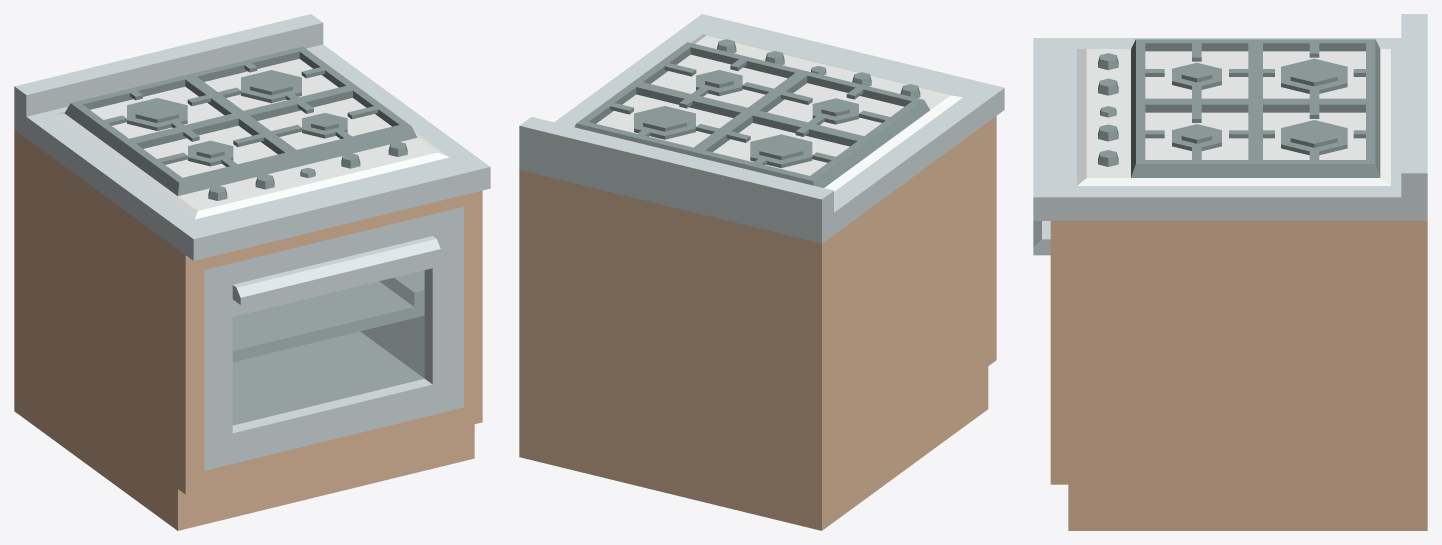
File: kitchenStove.glb
3 renders of one model, left to right at view 1: azimuth 30°, elevation 25°; view 2: azimuth 150°, elevation 25°; view 3: azimuth 270°, elevation 25°, orthographic. The views are drawn at different scales.
Parts seen in each view (by area): view 1: kitchenStove(Clone), door; view 2: kitchenStove(Clone); view 3: kitchenStove(Clone), door.
Boxes of the visible parts, left/top/right/bottom form: kitchenStove(Clone): left=14, top=14, right=490, bottom=530; door: left=204, top=206, right=463, bottom=470; kitchenStove(Clone): left=519, top=14, right=1004, bottom=530; kitchenStove(Clone): left=1033, top=14, right=1427, bottom=530; door: left=1033, top=221, right=1050, bottom=255.
Bounding box in the file's own units: 0.43 × 0.45 × 0.45.
